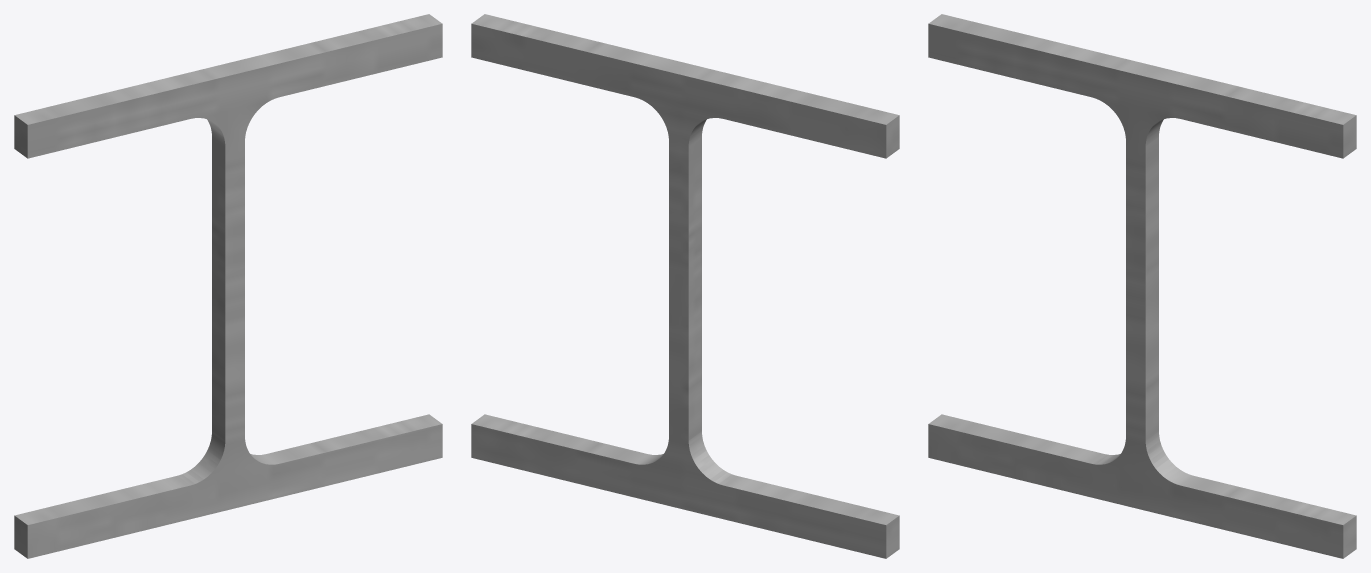
The model's file is HEB180.glb.
The picture shows the model from 3 angles, left to right: view 1: azimuth 30°, elevation 25°; view 2: azimuth 150°, elevation 25°; view 3: azimuth 330°, elevation 25°; orthographic projection.
Size of the model in its own units: 18 by 18 by 1.
Materials: 1 (1 with a texture image).
